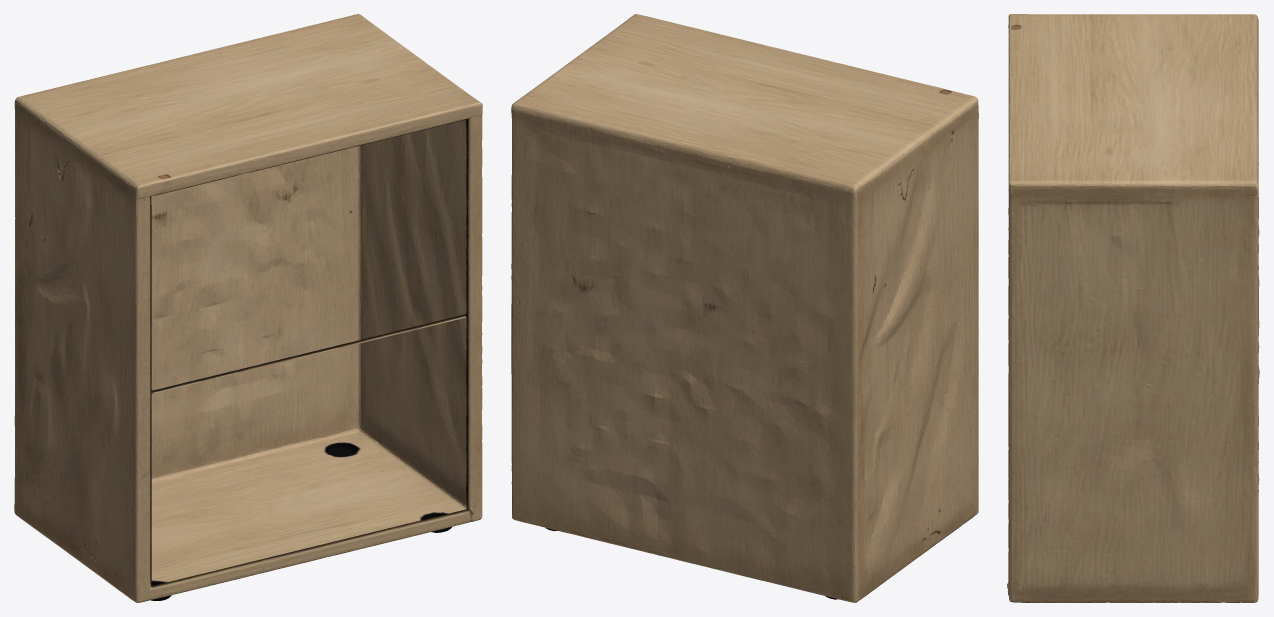
File: body.glb
3 renders of one model, left to right at view 1: azimuth 30°, elevation 25°; view 2: azimuth 150°, elevation 25°; view 3: azimuth 270°, elevation 25°, orthographic.
Visible parts, largest first — view 1: source_surface_0; view 2: source_surface_0; view 3: source_surface_0.
Boxes of the visible parts, <box> form: source_surface_0: <box>14,14,482,602</box>; source_surface_0: <box>511,14,978,602</box>; source_surface_0: <box>1007,14,1259,602</box>.
Bounding box in the file's own units: 0.4445 × 0.52 × 0.2765.
1 material, 1 textured.
